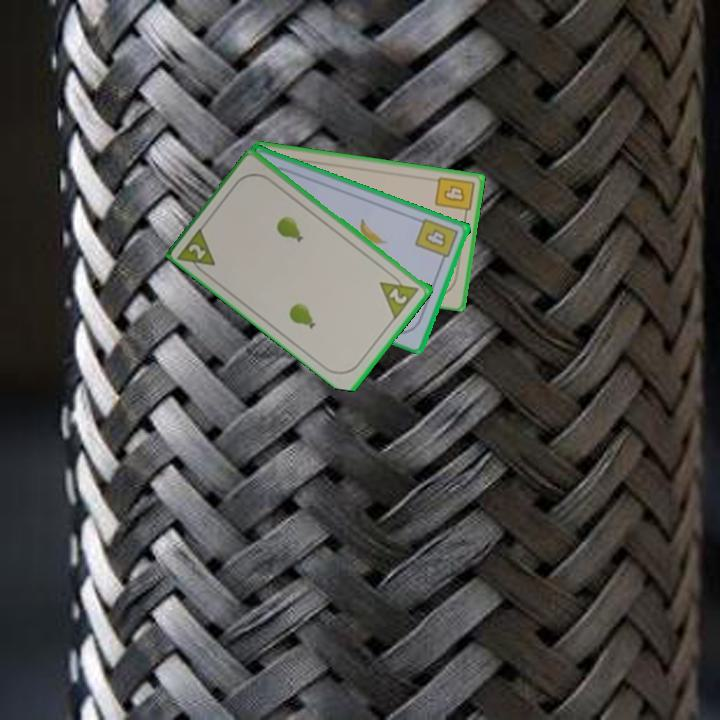2p: (175, 223, 219, 279), (376, 268, 422, 321)
4b: (412, 215, 462, 266), (431, 173, 477, 220)
